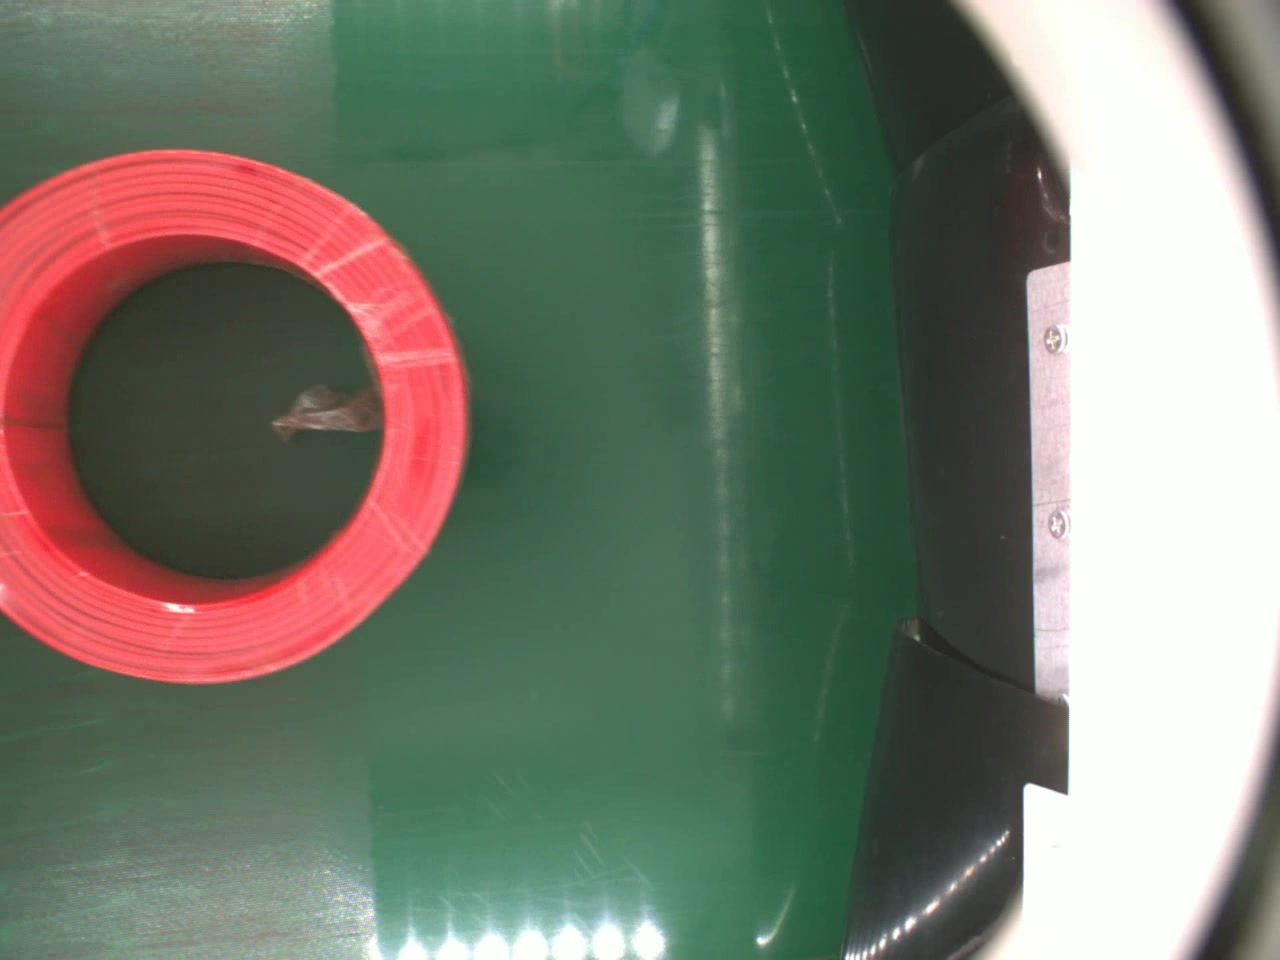red: (0, 150, 468, 686)
